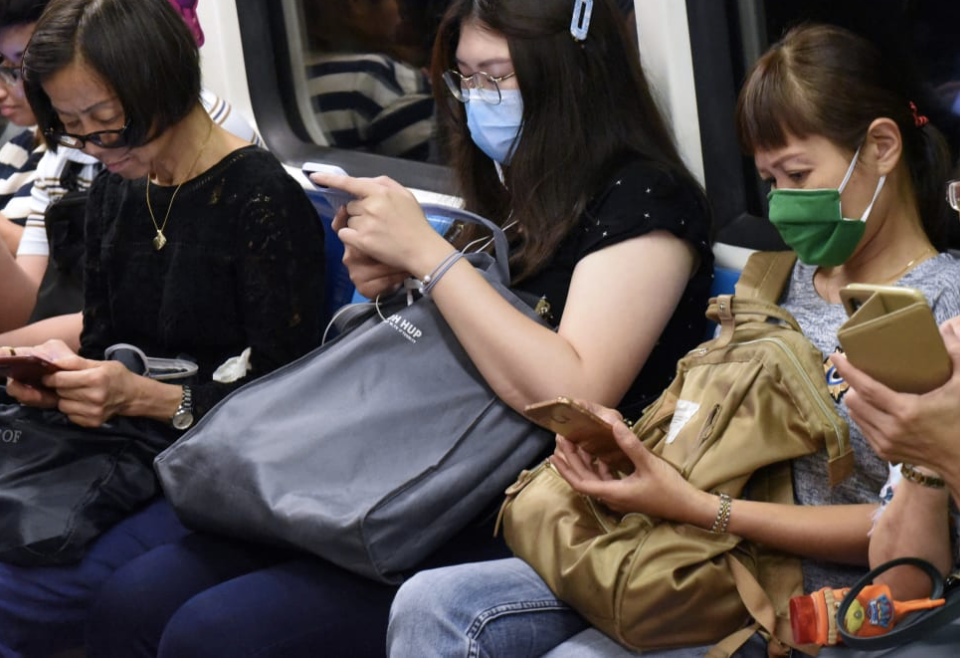mask: (740, 75, 898, 270), (451, 13, 577, 163)
